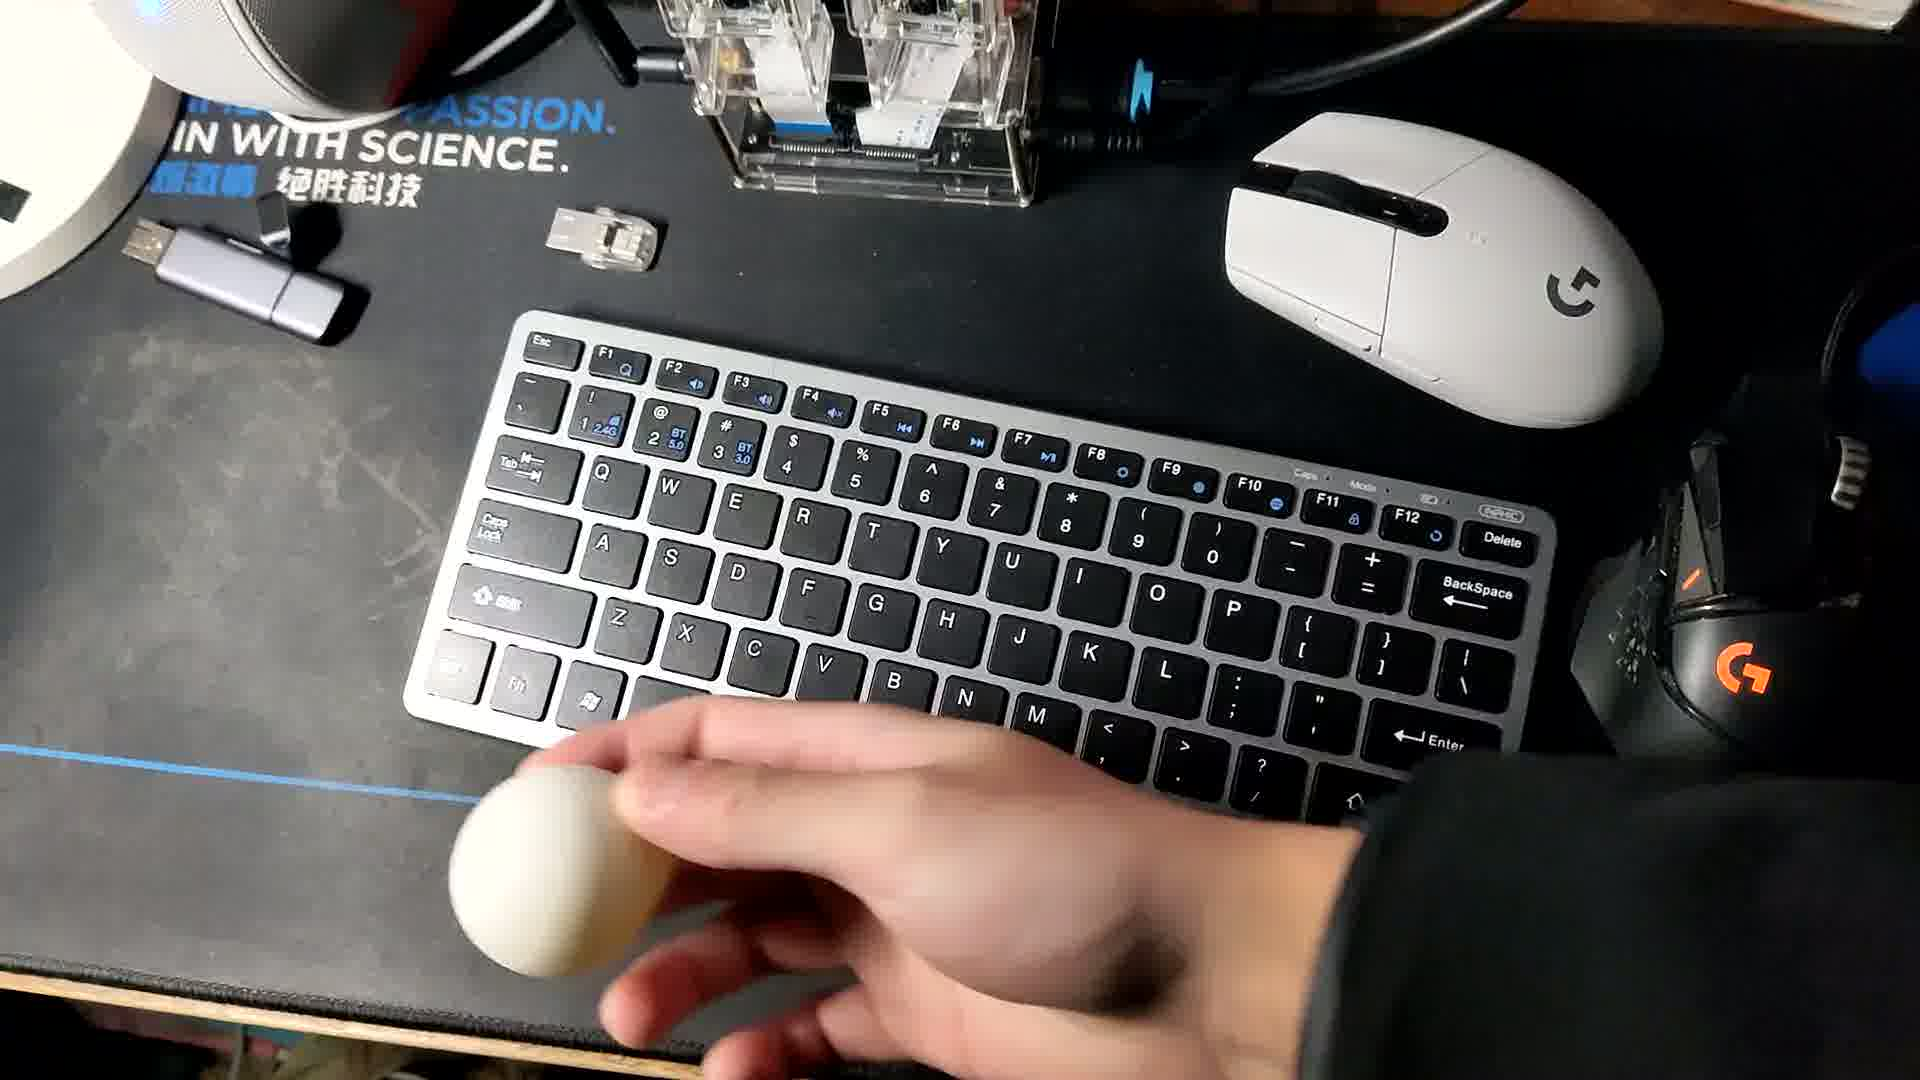Ball: (440, 758, 673, 976)
